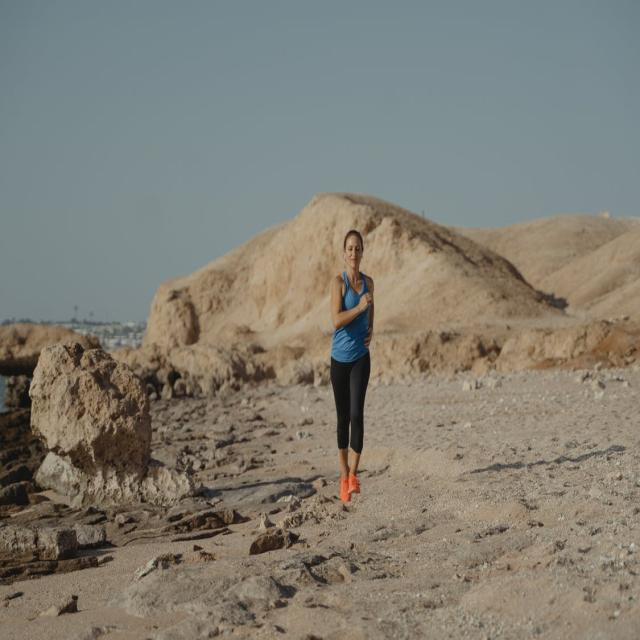running: (327, 228, 379, 508)
